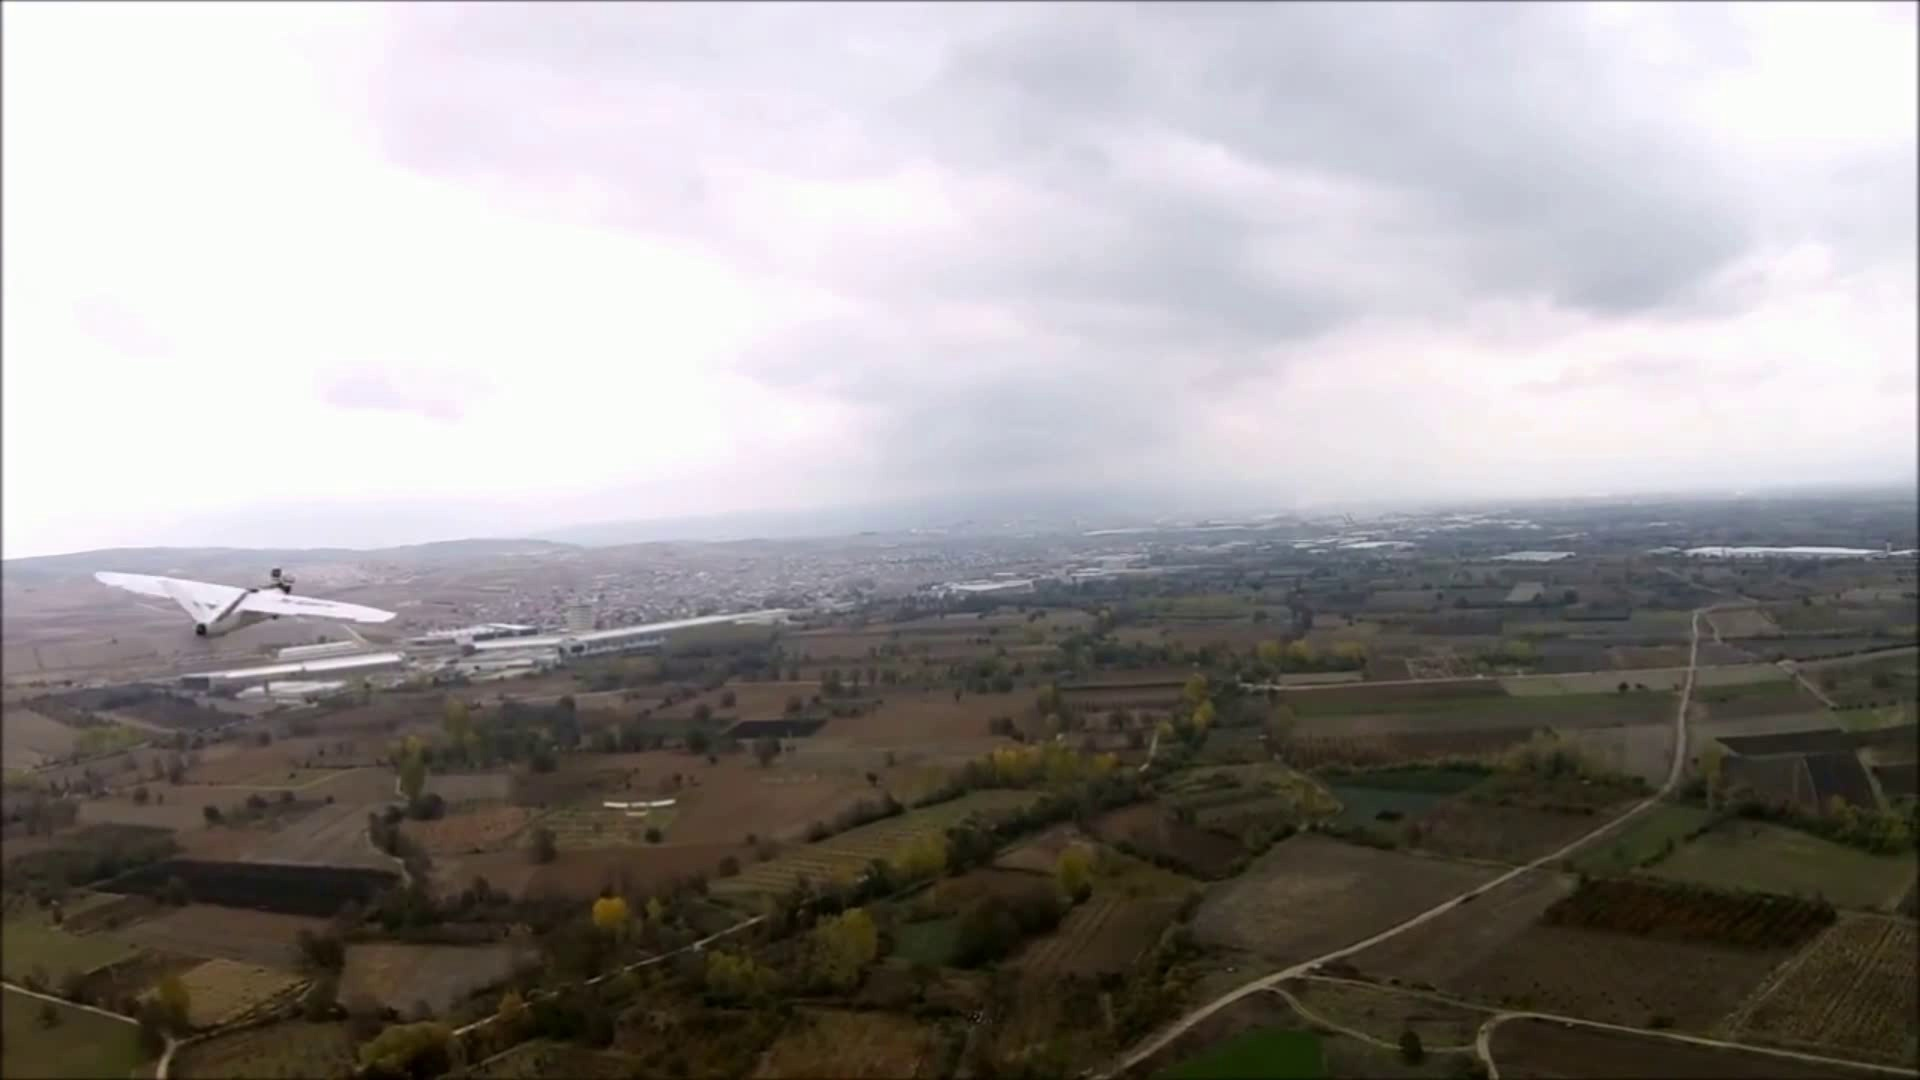airplane: (90, 564, 398, 640)
